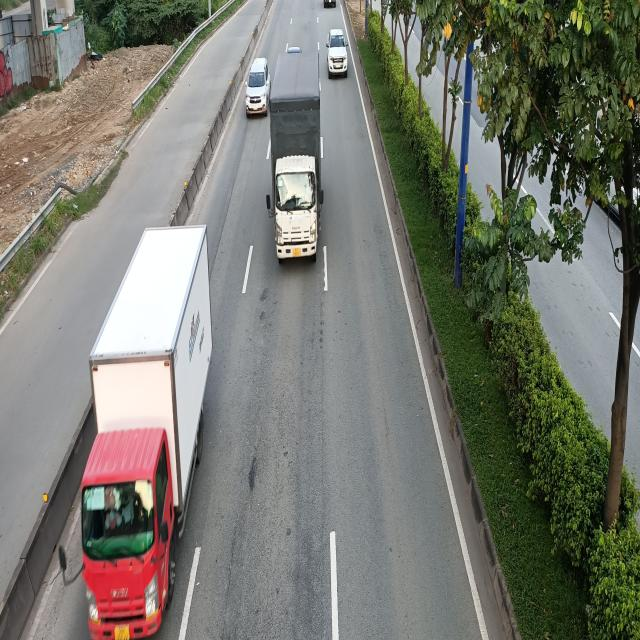car: (245, 56, 271, 117), (325, 28, 348, 77)
truck: (64, 227, 212, 640), (264, 50, 324, 262)
